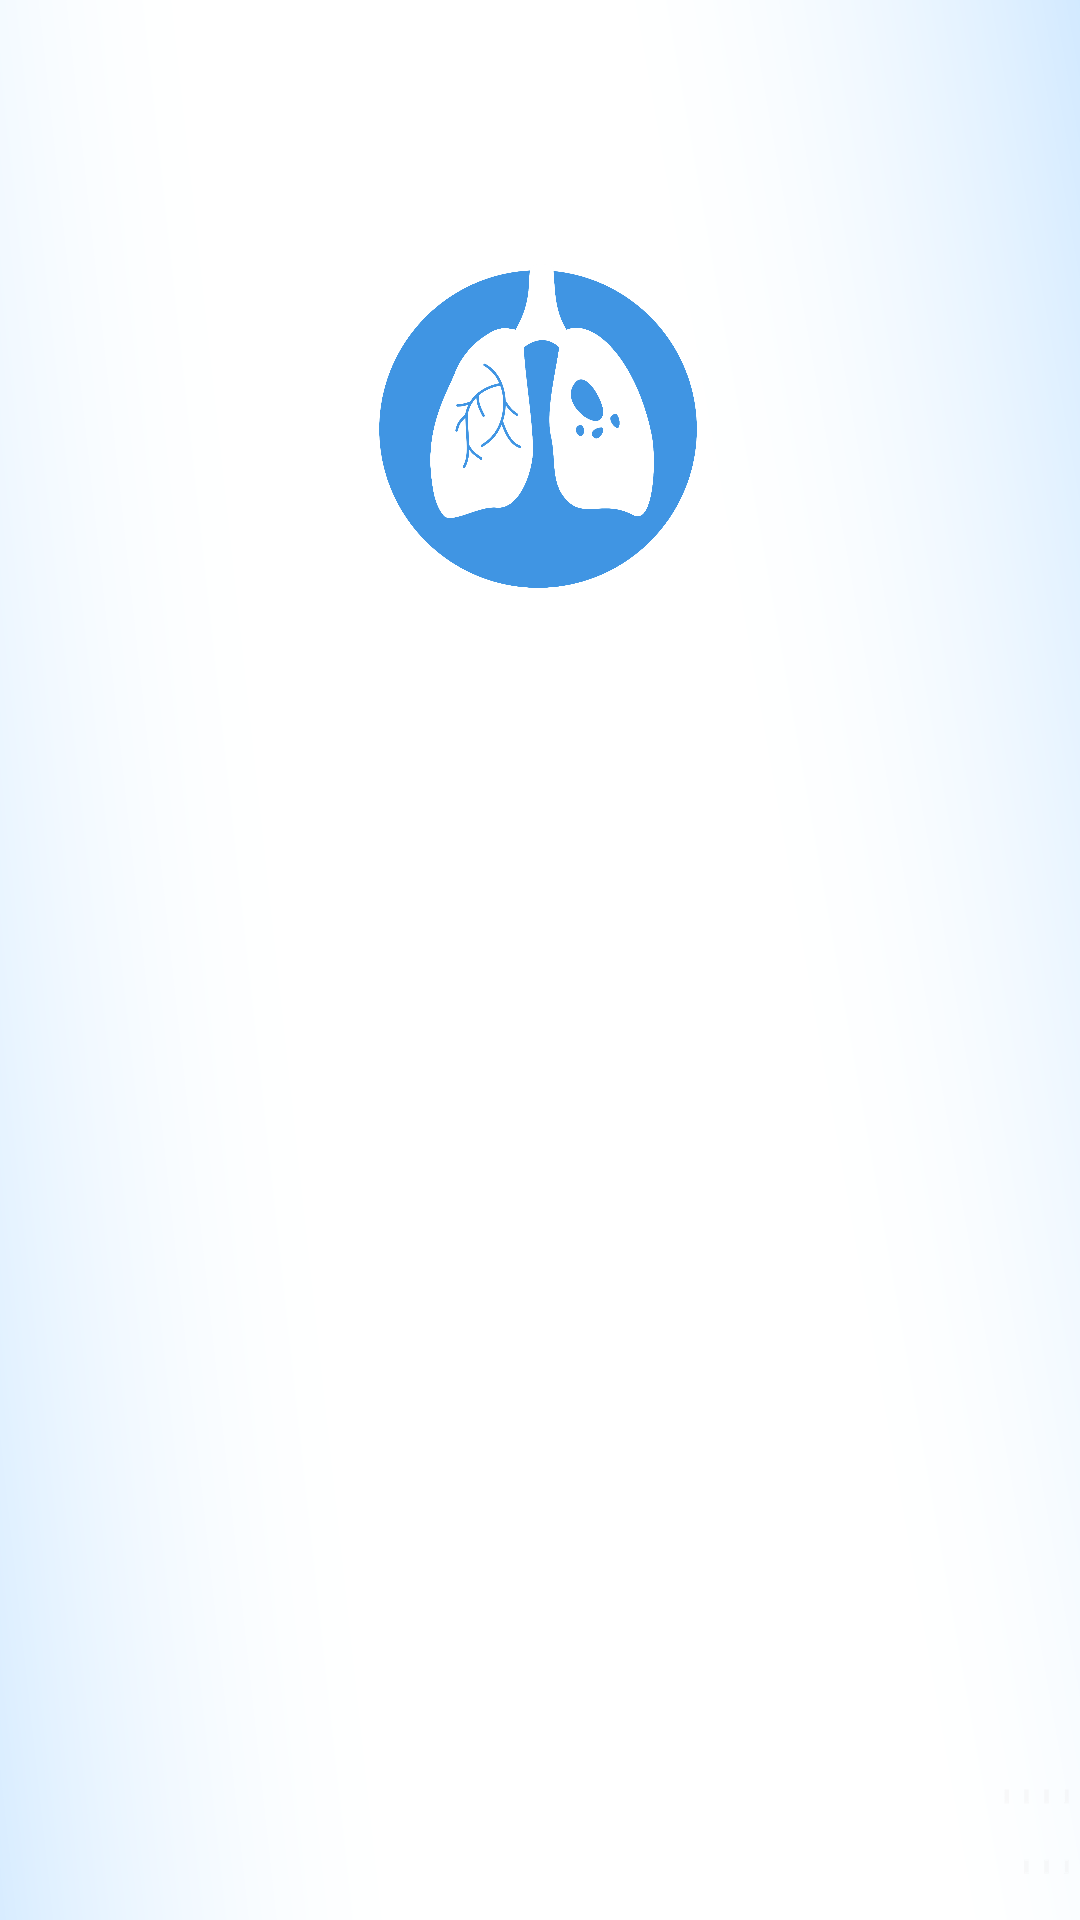

Where to tap for icons on this 1080px×1920px app screen, as (x,y):
ttb circle: (538,429)
